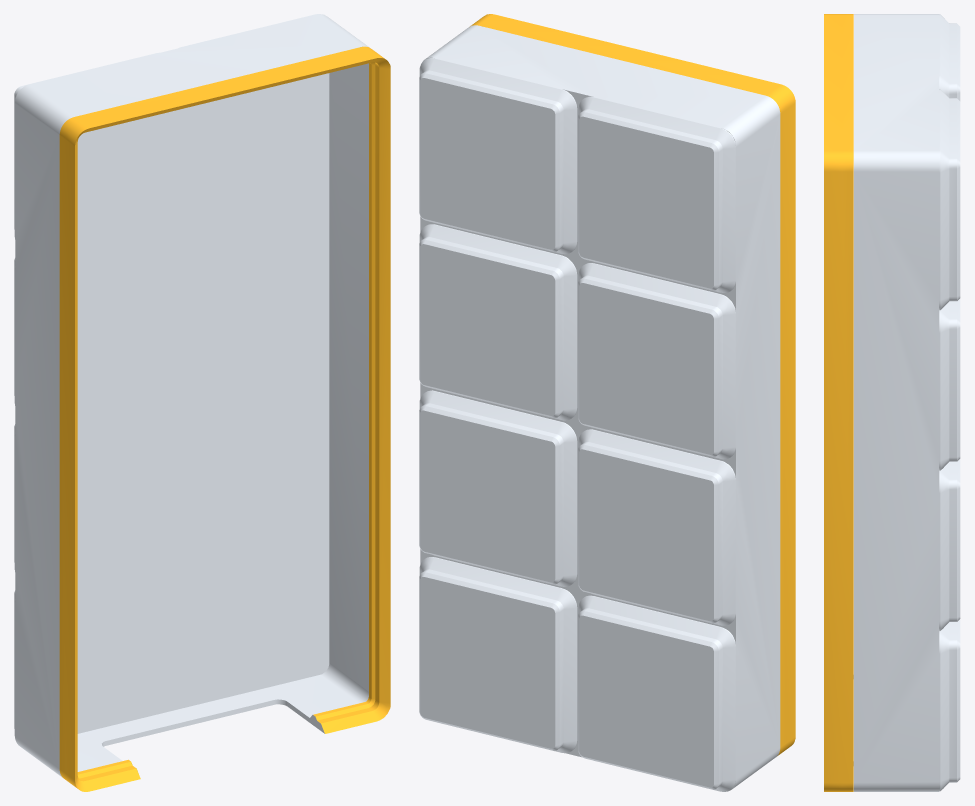
Rendered from wall-cutout-2x4-cable.glb.
3 renders of one model, left to right at view 1: azimuth 30°, elevation 25°; view 2: azimuth 150°, elevation 25°; view 3: azimuth 270°, elevation 25°, orthographic. The views are drawn at different scales.
Size of the model in its own units: 83.46 by 168 by 32.44.
